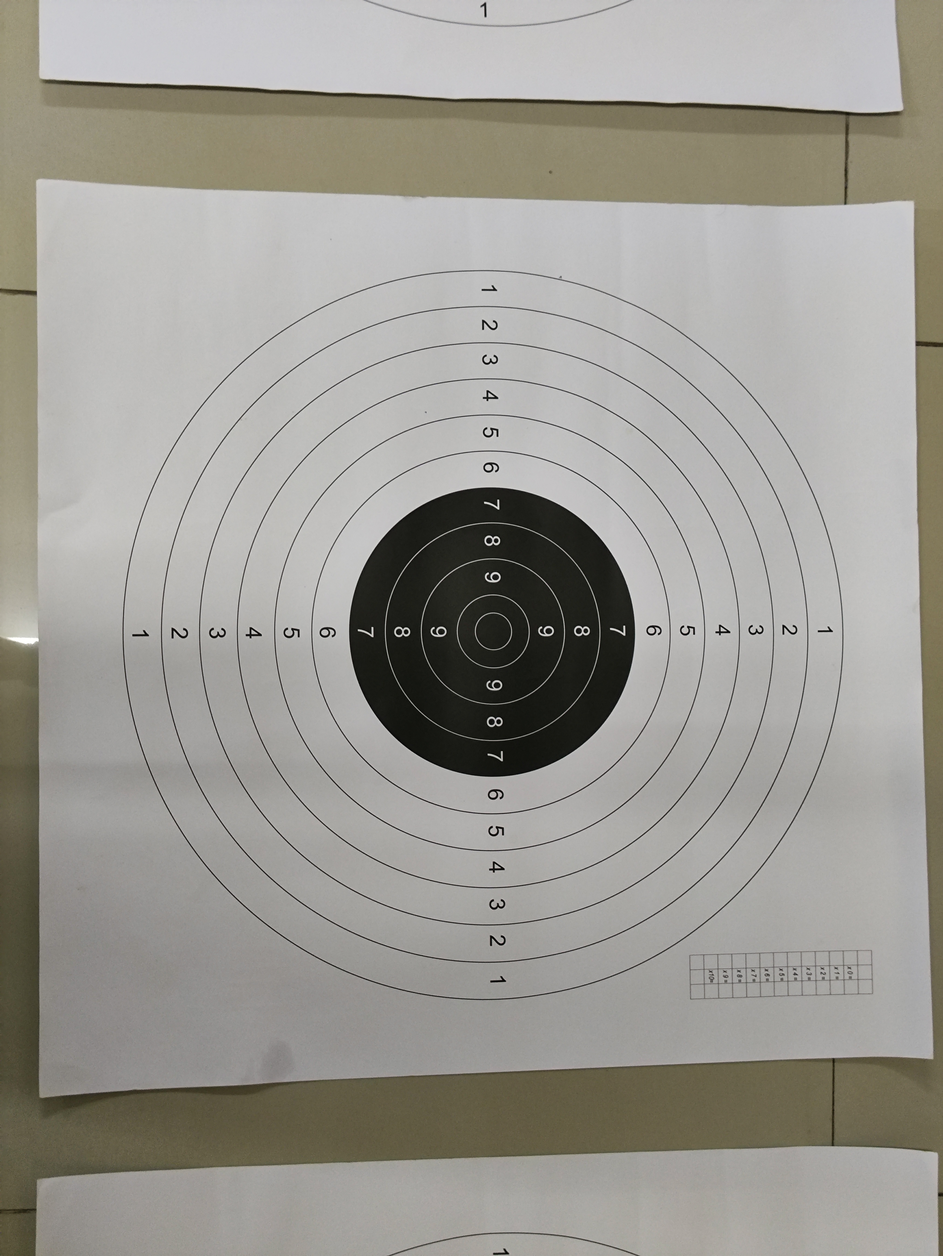target: (103, 225, 864, 1032)
